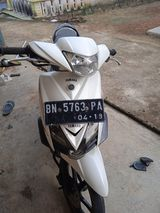plate: (45, 100, 106, 125)
